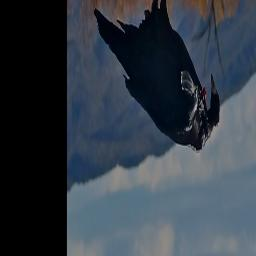Crow: (92, 0, 221, 156)
